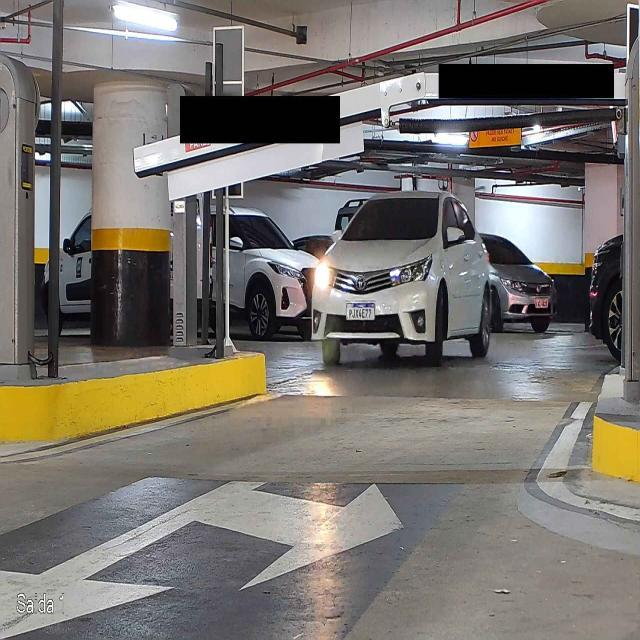mercosul_plate: (344, 302, 376, 321)
